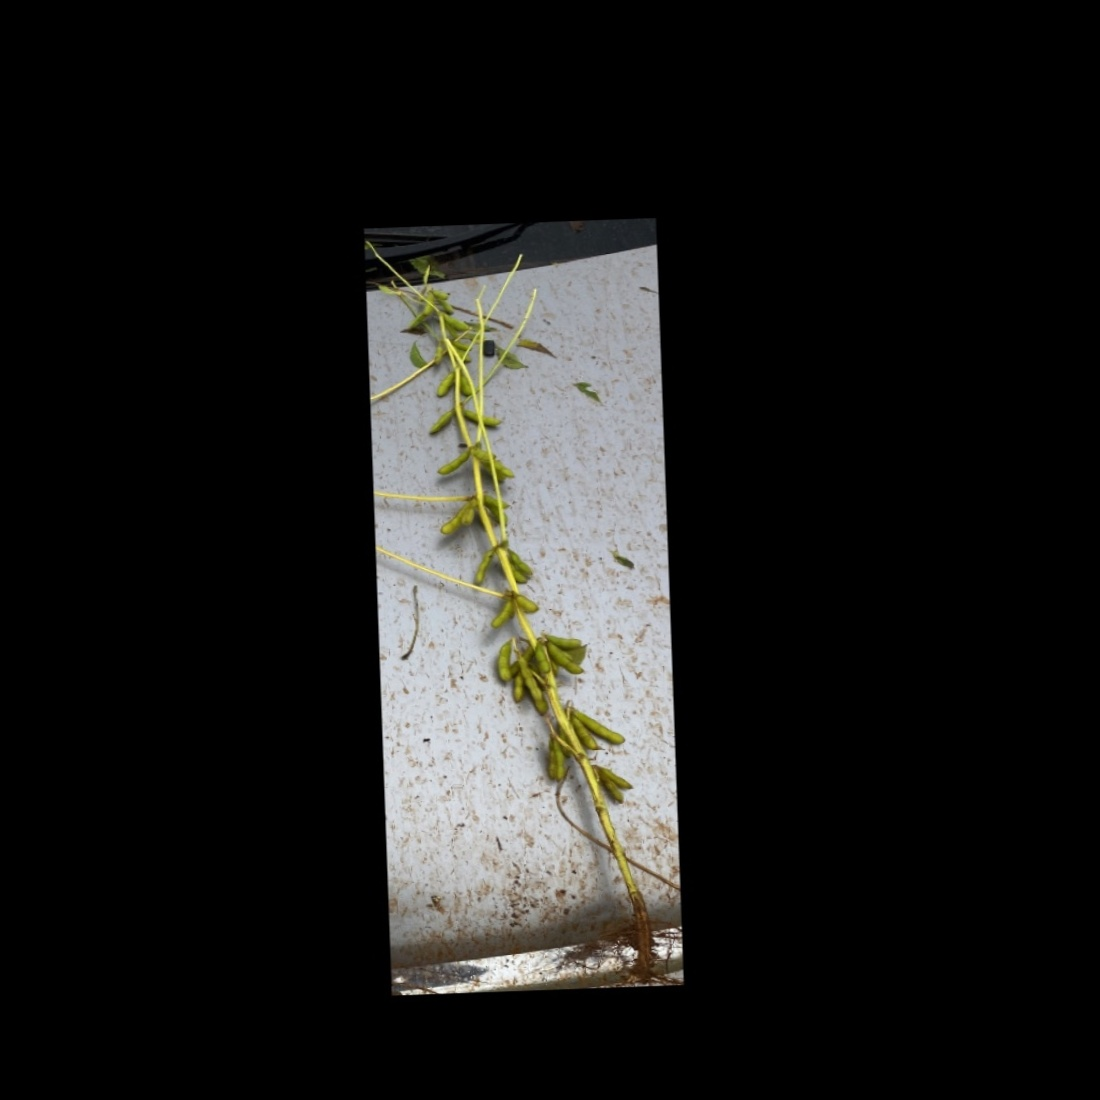pod: (457, 404, 505, 430), (434, 447, 472, 479), (427, 404, 459, 438), (470, 547, 496, 588), (426, 368, 455, 401), (488, 644, 513, 681), (490, 594, 516, 629), (529, 643, 554, 676), (499, 562, 531, 587)
soy: (376, 258, 659, 917)
